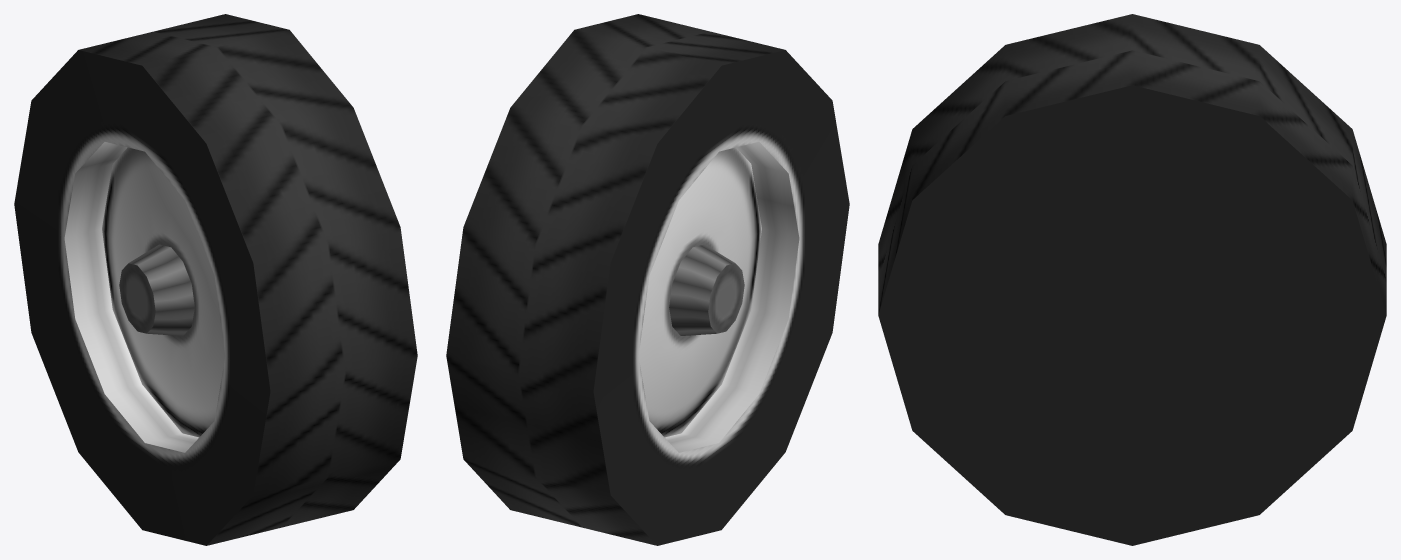
File: vehicles_WheelfhqMZSteelieThin.fbx
3 renders of one model, left to right at view 1: azimuth 30°, elevation 25°; view 2: azimuth 150°, elevation 25°; view 3: azimuth 270°, elevation 25°, orthographic.
Parts seen in each view (by area): view 1: WheelThinSteelie; view 2: WheelThinSteelie; view 3: WheelThinSteelie.
Boxes of the visible parts, x1=… form: WheelThinSteelie: x1=14, y1=14, x2=417, y2=545; WheelThinSteelie: x1=446, y1=14, x2=849, y2=545; WheelThinSteelie: x1=878, y1=14, x2=1386, y2=545.
Size of the model in its own units: 0.2764 by 0.8066 by 0.8066.
